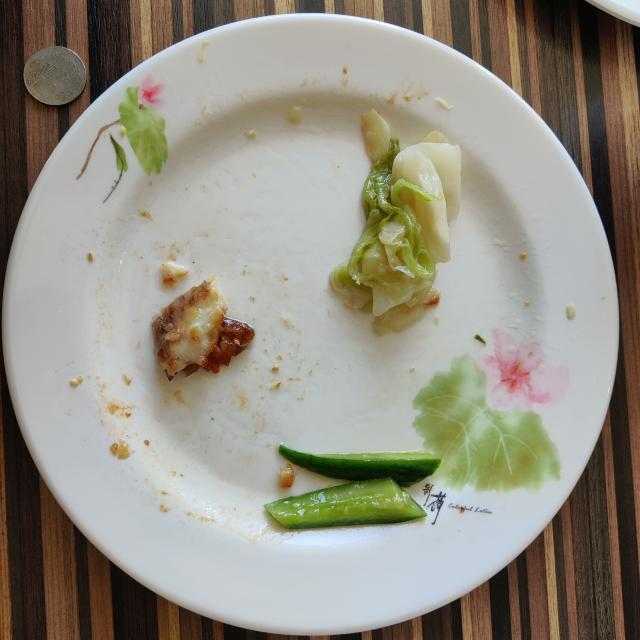Kabayaki sea bream fillet: (152, 276, 255, 380)
cabbage: (330, 110, 461, 335)
coin: (24, 46, 86, 105)
cucumber: (265, 445, 441, 529)
